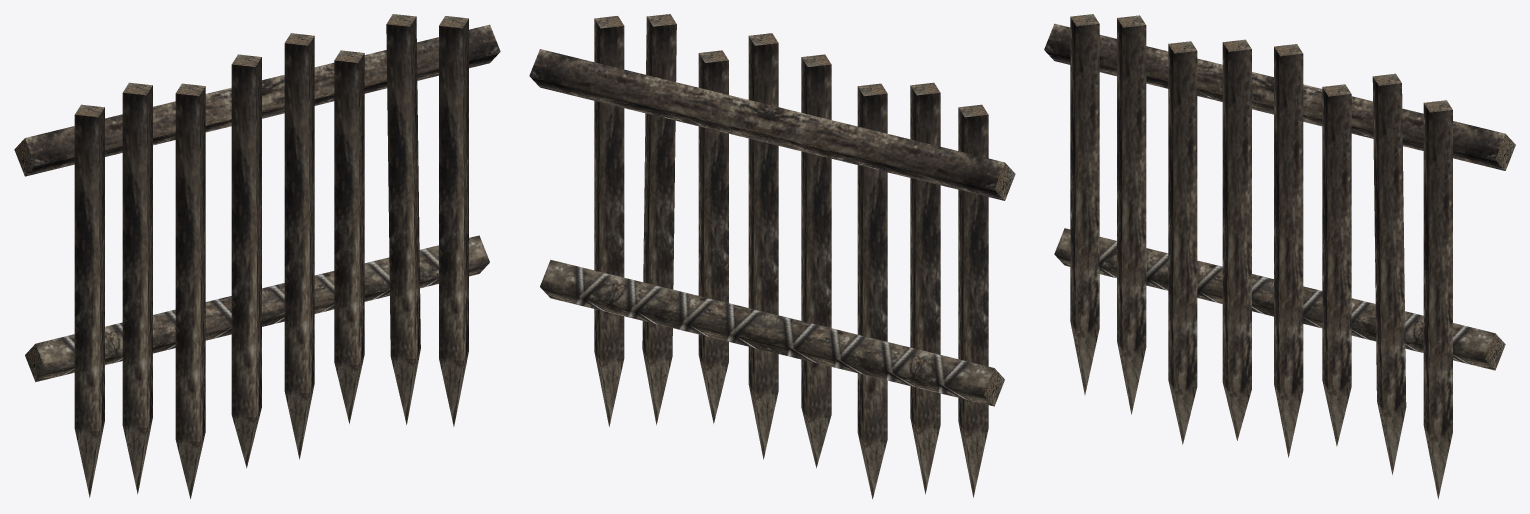
The model's file is SC_yonghengsenlin_FB01_06.FBX.
3 views of the same model, side by side, from view 1: azimuth 30°, elevation 25°; view 2: azimuth 150°, elevation 25°; view 3: azimuth 330°, elevation 25° (orthographic). The views are drawn at different scales.
Parts seen in each view (by area): view 1: door; view 2: door; view 3: door.
Part boxes in pixels (<box>): door: <box>14,14,500,498</box>; door: <box>529,14,1015,499</box>; door: <box>1044,14,1515,498</box>.
Bounding box in the file's own units: 632 × 564 × 84.78.
